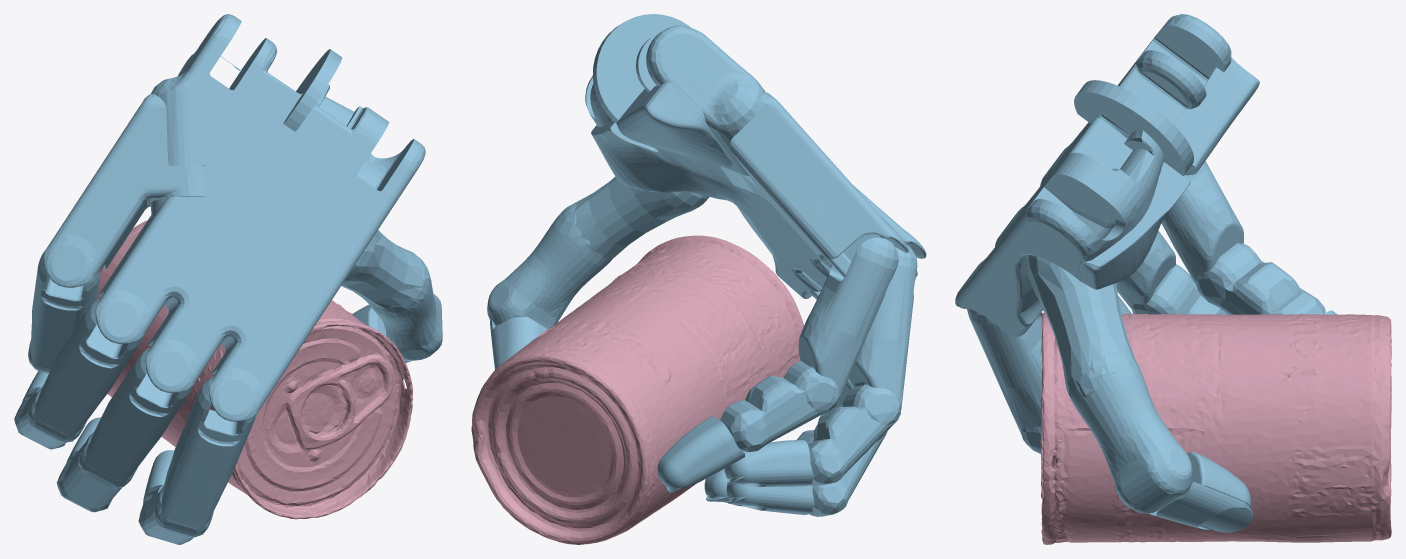
3 renders of one model, left to right at view 1: azimuth 30°, elevation 25°; view 2: azimuth 150°, elevation 25°; view 3: azimuth 270°, elevation 25°, orthographic. The views are drawn at different scales.
Visible parts, largest first — view 1: world; view 2: world; view 3: world.
Part boxes in pixels (x1=…): world: x1=14, y1=14, x2=442, y2=544; world: x1=471, y1=14, x2=926, y2=544; world: x1=955, y1=14, x2=1391, y2=544.
Size of the model in its own units: 0.15 by 0.1695 by 0.1266.
